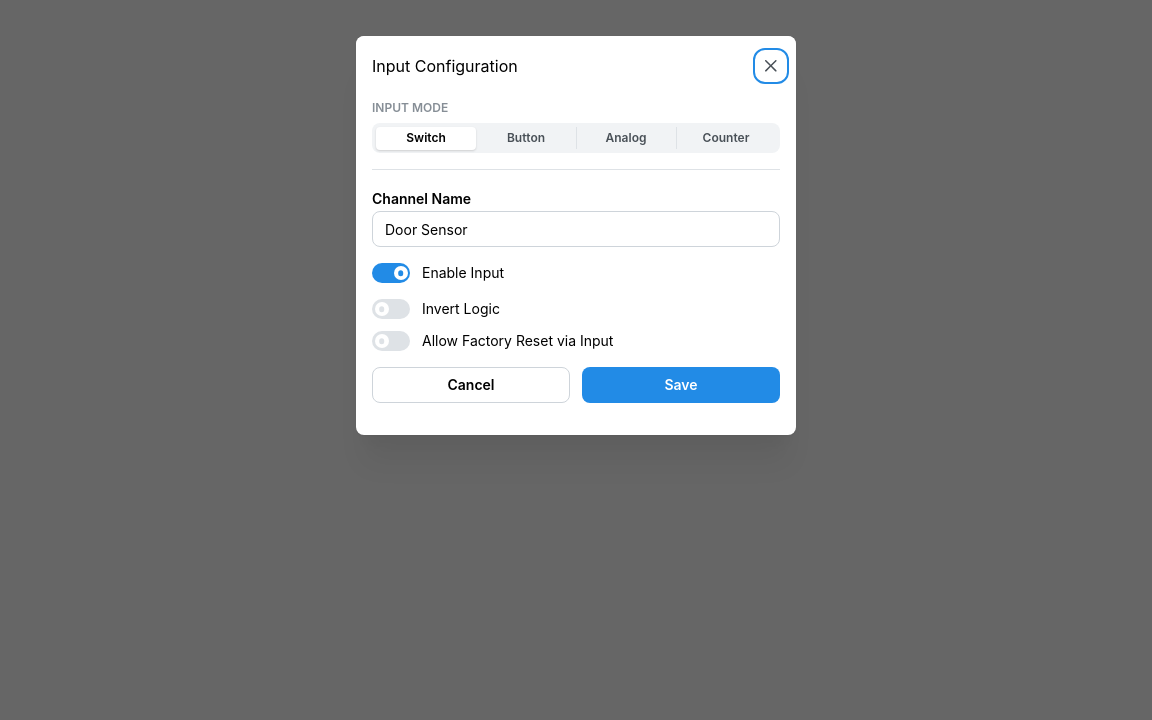
Test case: InputConfigPanel › shows analog-specific fields when Analog segment is selected
This screenshot has width=1152, height=720.
Click the text "Analog" at (626, 137), box [606,130,646,145]
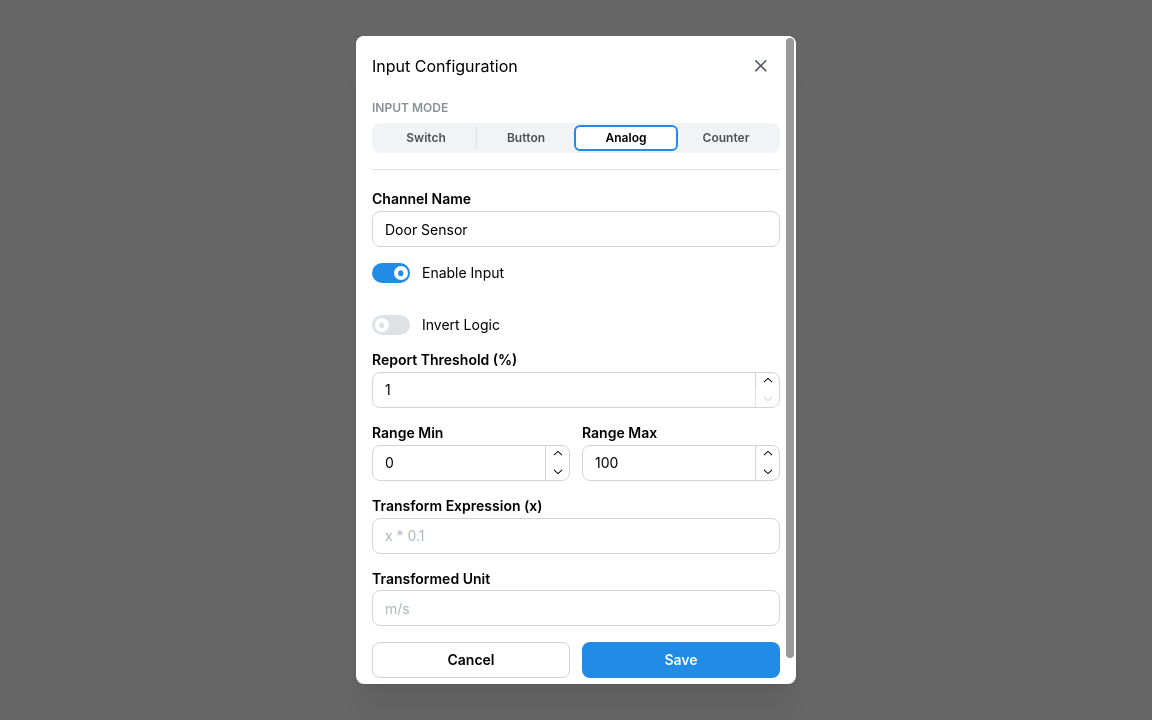
Check: the field labelled "Report Threshold (%)" is shown, box [372,372,780,408]
Check: the field labelled "Range Min" is shown, box [372,445,570,481]
Check: the field labelled "Range Max" is shown, box [582,445,780,481]
